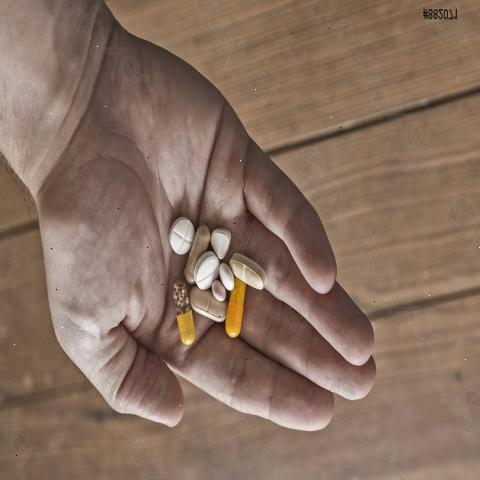Pill: (163, 210, 200, 258), (232, 250, 272, 284), (196, 251, 220, 295), (211, 224, 235, 261)
